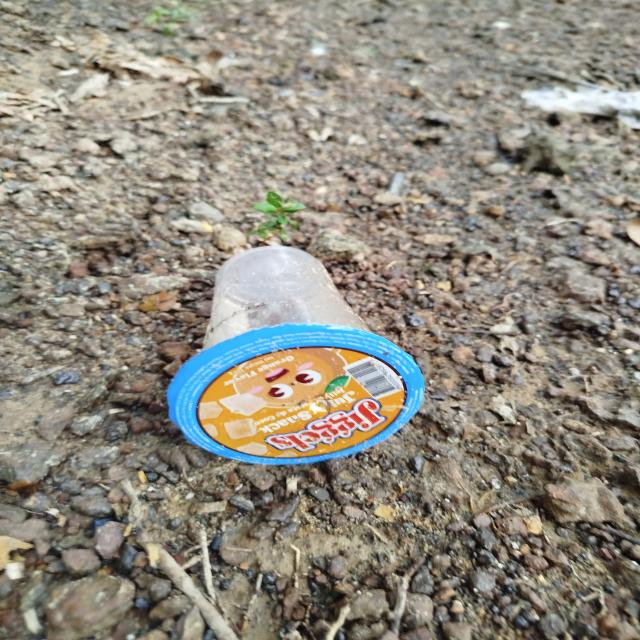plastic: (158, 234, 434, 473)
